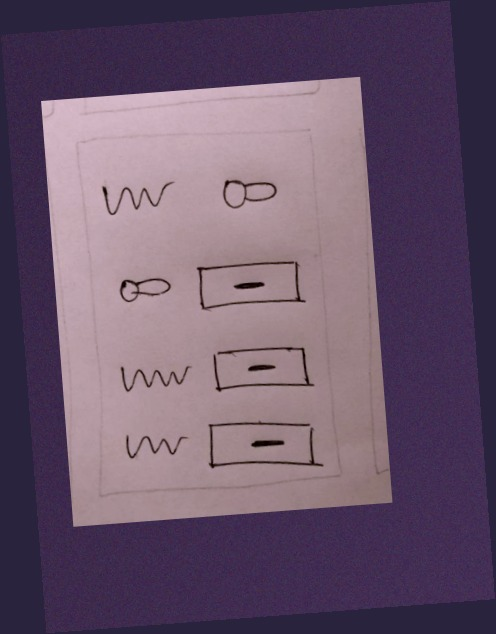button: (203, 411, 331, 479), (192, 254, 314, 316), (206, 340, 321, 402)
switch: (219, 170, 283, 220), (111, 270, 175, 308)
text: (97, 176, 180, 220), (114, 355, 195, 398), (119, 424, 191, 465)
